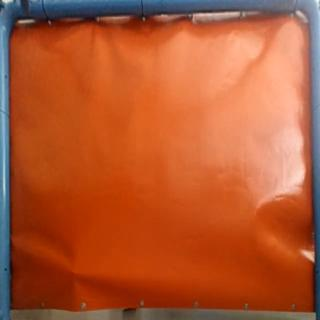Hit-hRxx: (67, 264, 82, 279)
